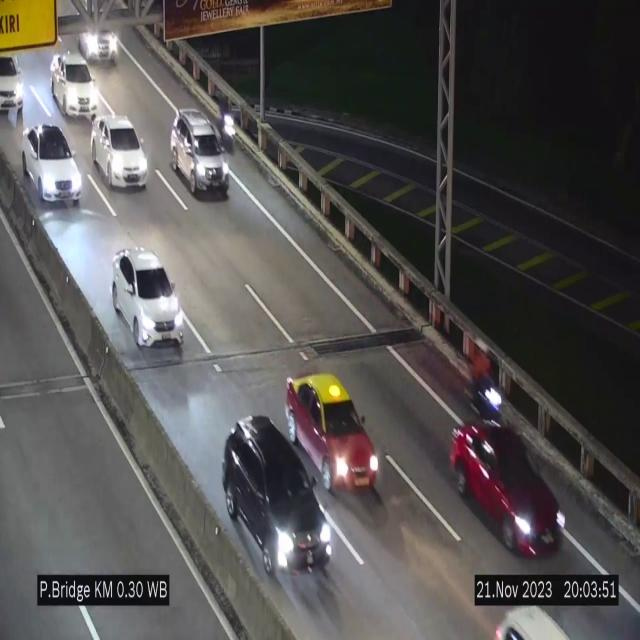Car: (215, 416, 333, 573), (450, 417, 564, 564), (283, 370, 380, 495), (112, 248, 184, 352), (170, 108, 229, 198), (23, 122, 81, 204), (92, 115, 148, 189), (51, 53, 99, 119)
Motorcycle: (472, 342, 505, 419), (216, 94, 238, 155)
